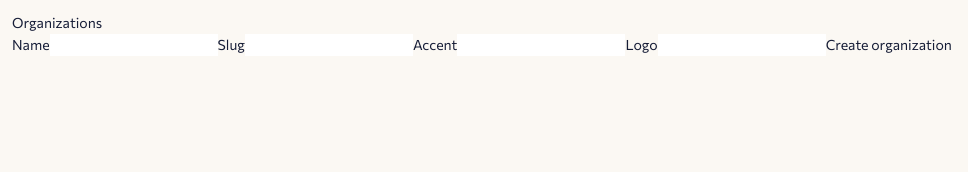
Scenario: AdminPage — platform Organizations section › surfaces a createOrg error in a role=alert
This screenshot has width=968, height=172.
Expected: the heading "Organizations" is shown, [12,14,102,31]
Type "Dup" into the field labelled "Name".
click(134, 45); type("Dup")  # box [50,34,218,56]
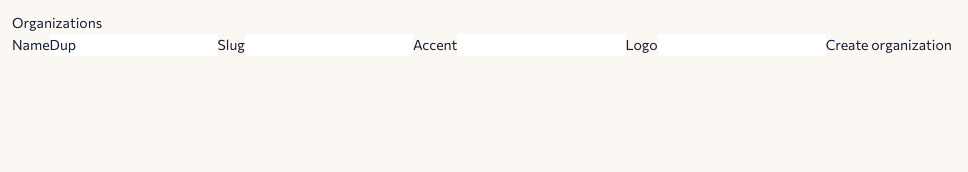
Type "acme" into the field labelled "Slug".
click(329, 45); type("acme")  # box [245,34,413,56]
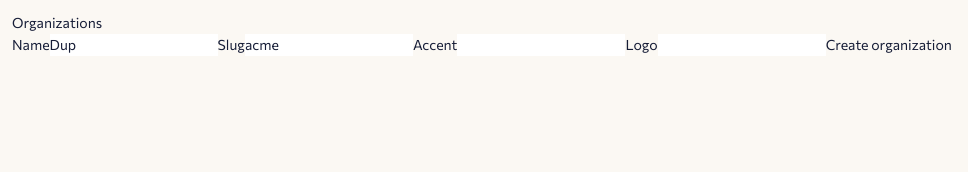
Click the button "Create organization".
click(889, 45)  # box [826,34,952,56]
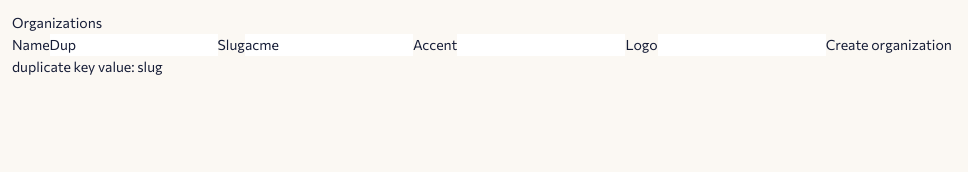
Expected: the message shows "duplicate", [12,58,163,75]
